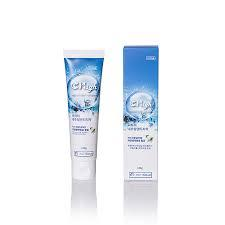toothpaste: (59, 48, 116, 185)
